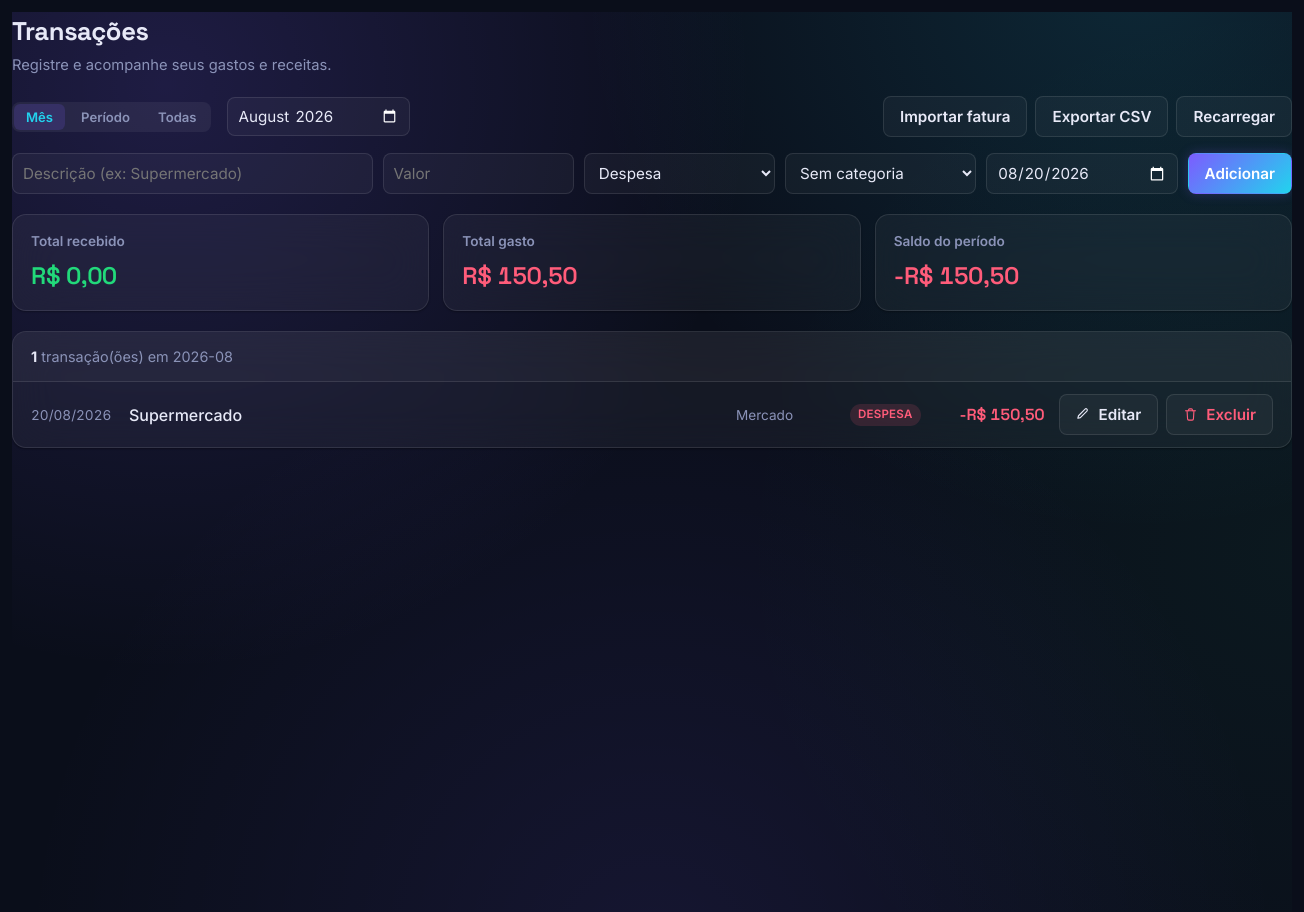
it: Transacoes › edita uma transação existente
Check: the text "Supermercado" is shown, box x1=129 y1=405 x2=242 y2=425
Click the button "Editar". click: [1108, 415]
box: x1=1058 y1=394 x2=1158 y2=436
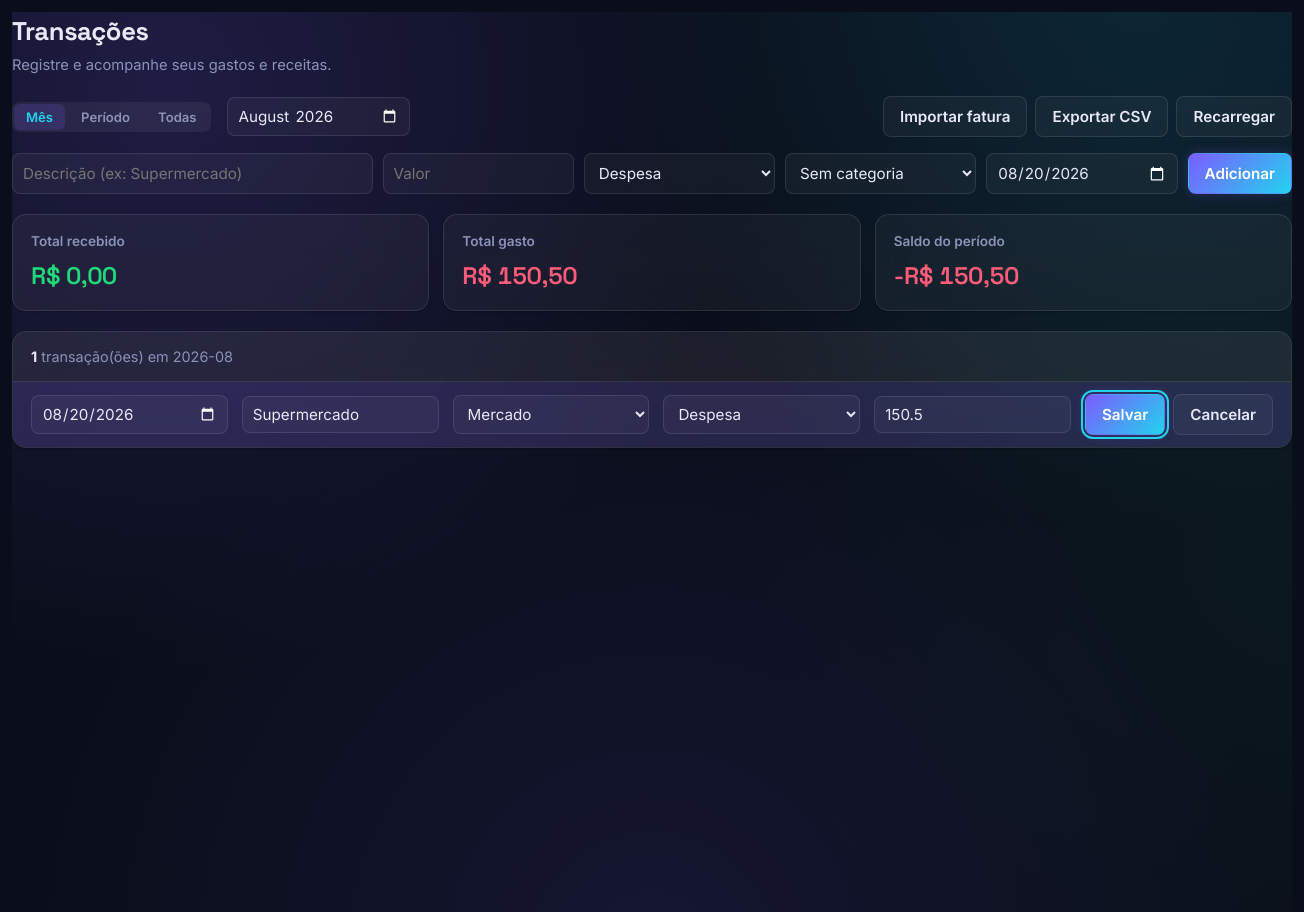
Replace the text in the field named "Descrição" with "Supermercado Extra". click: [340, 415]
box: x1=242 y1=396 x2=439 y2=434
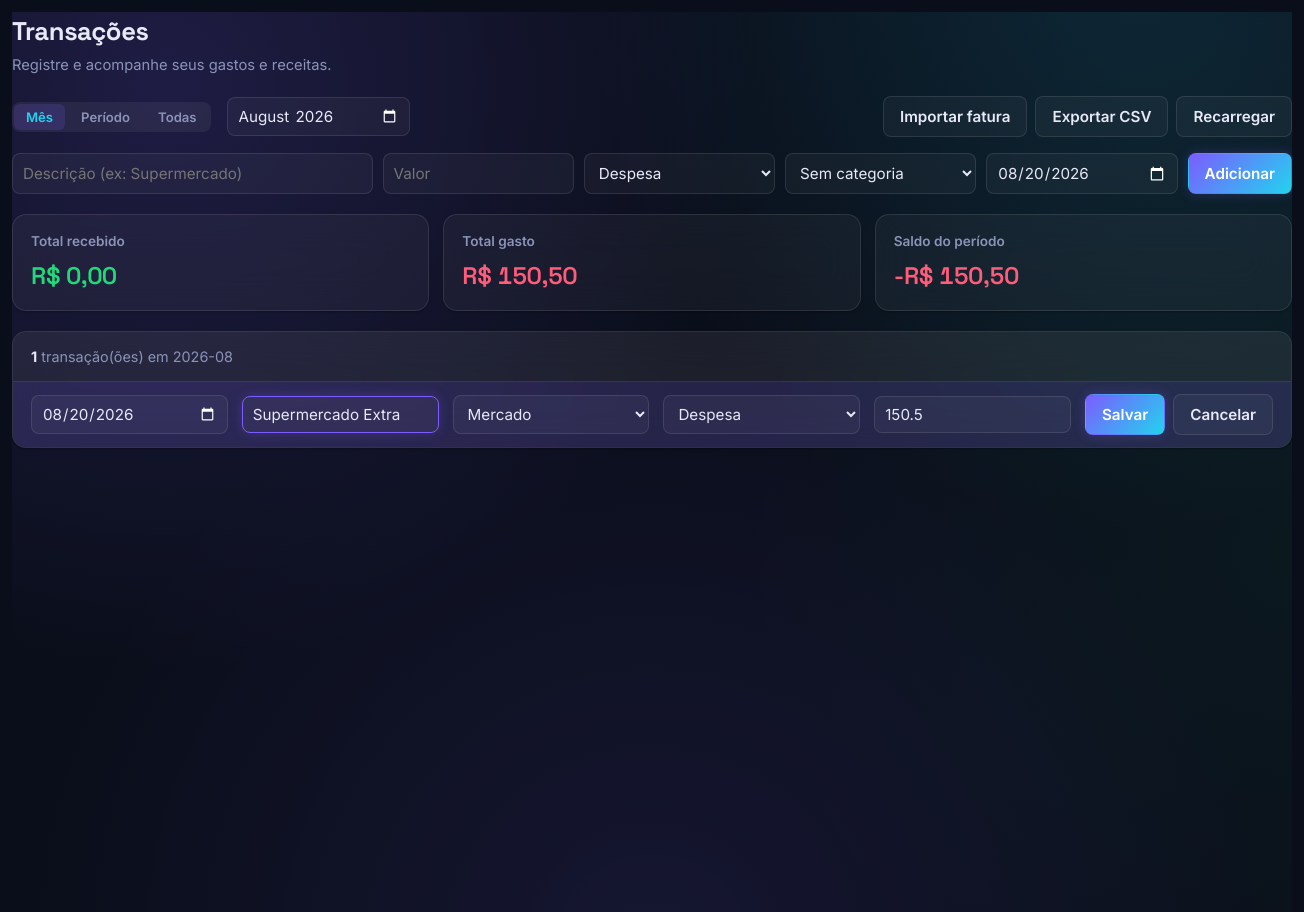
Click the button "Salvar". click: [1125, 415]
box: x1=1085 y1=394 x2=1165 y2=436
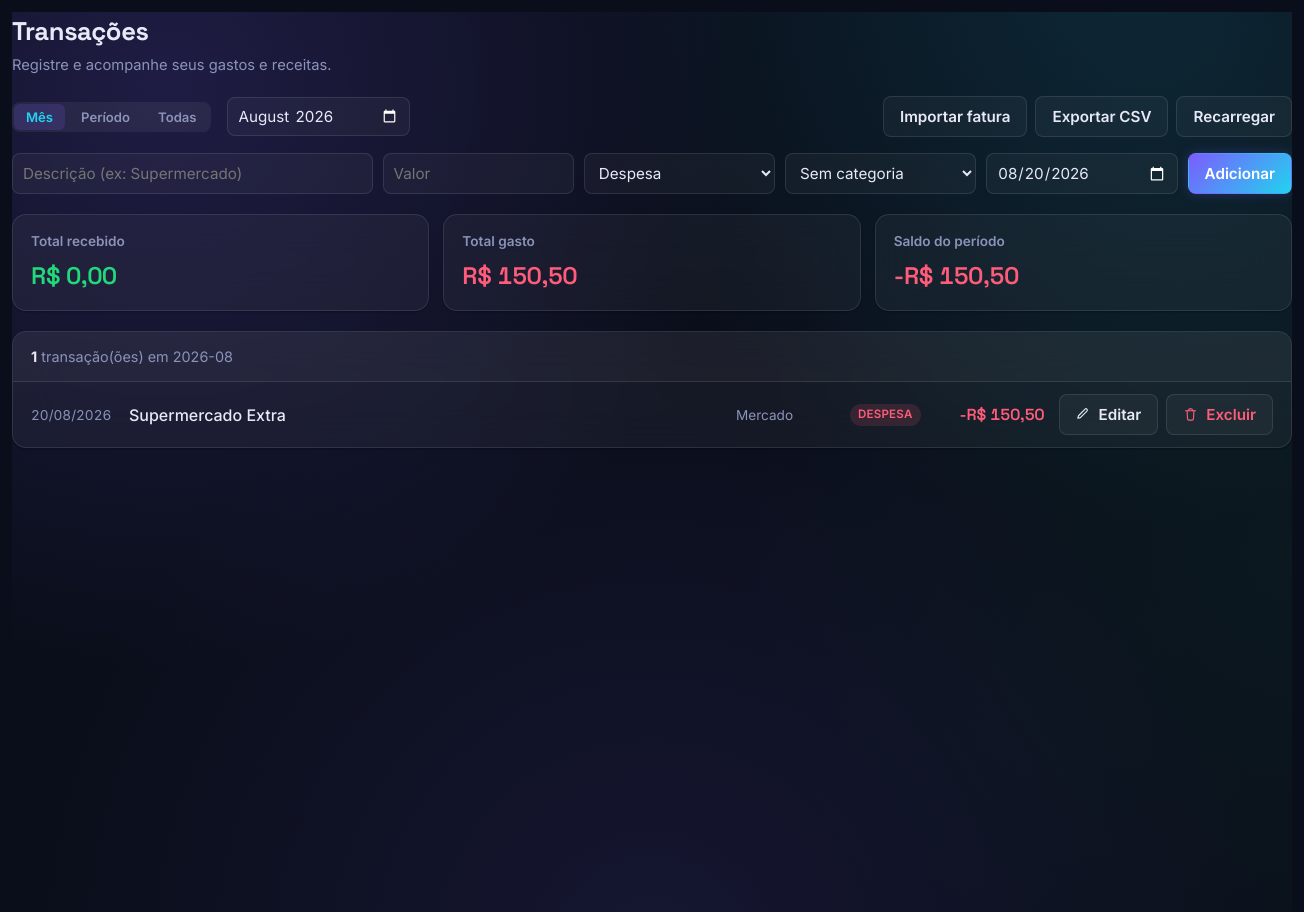
Check: the text "Supermercado Extra" is shown, box x1=129 y1=405 x2=286 y2=425
